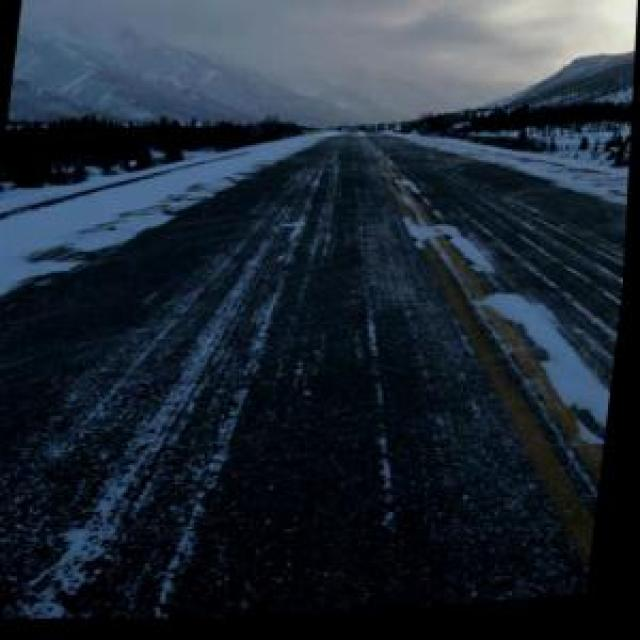ice-road: (0, 137, 629, 621)
